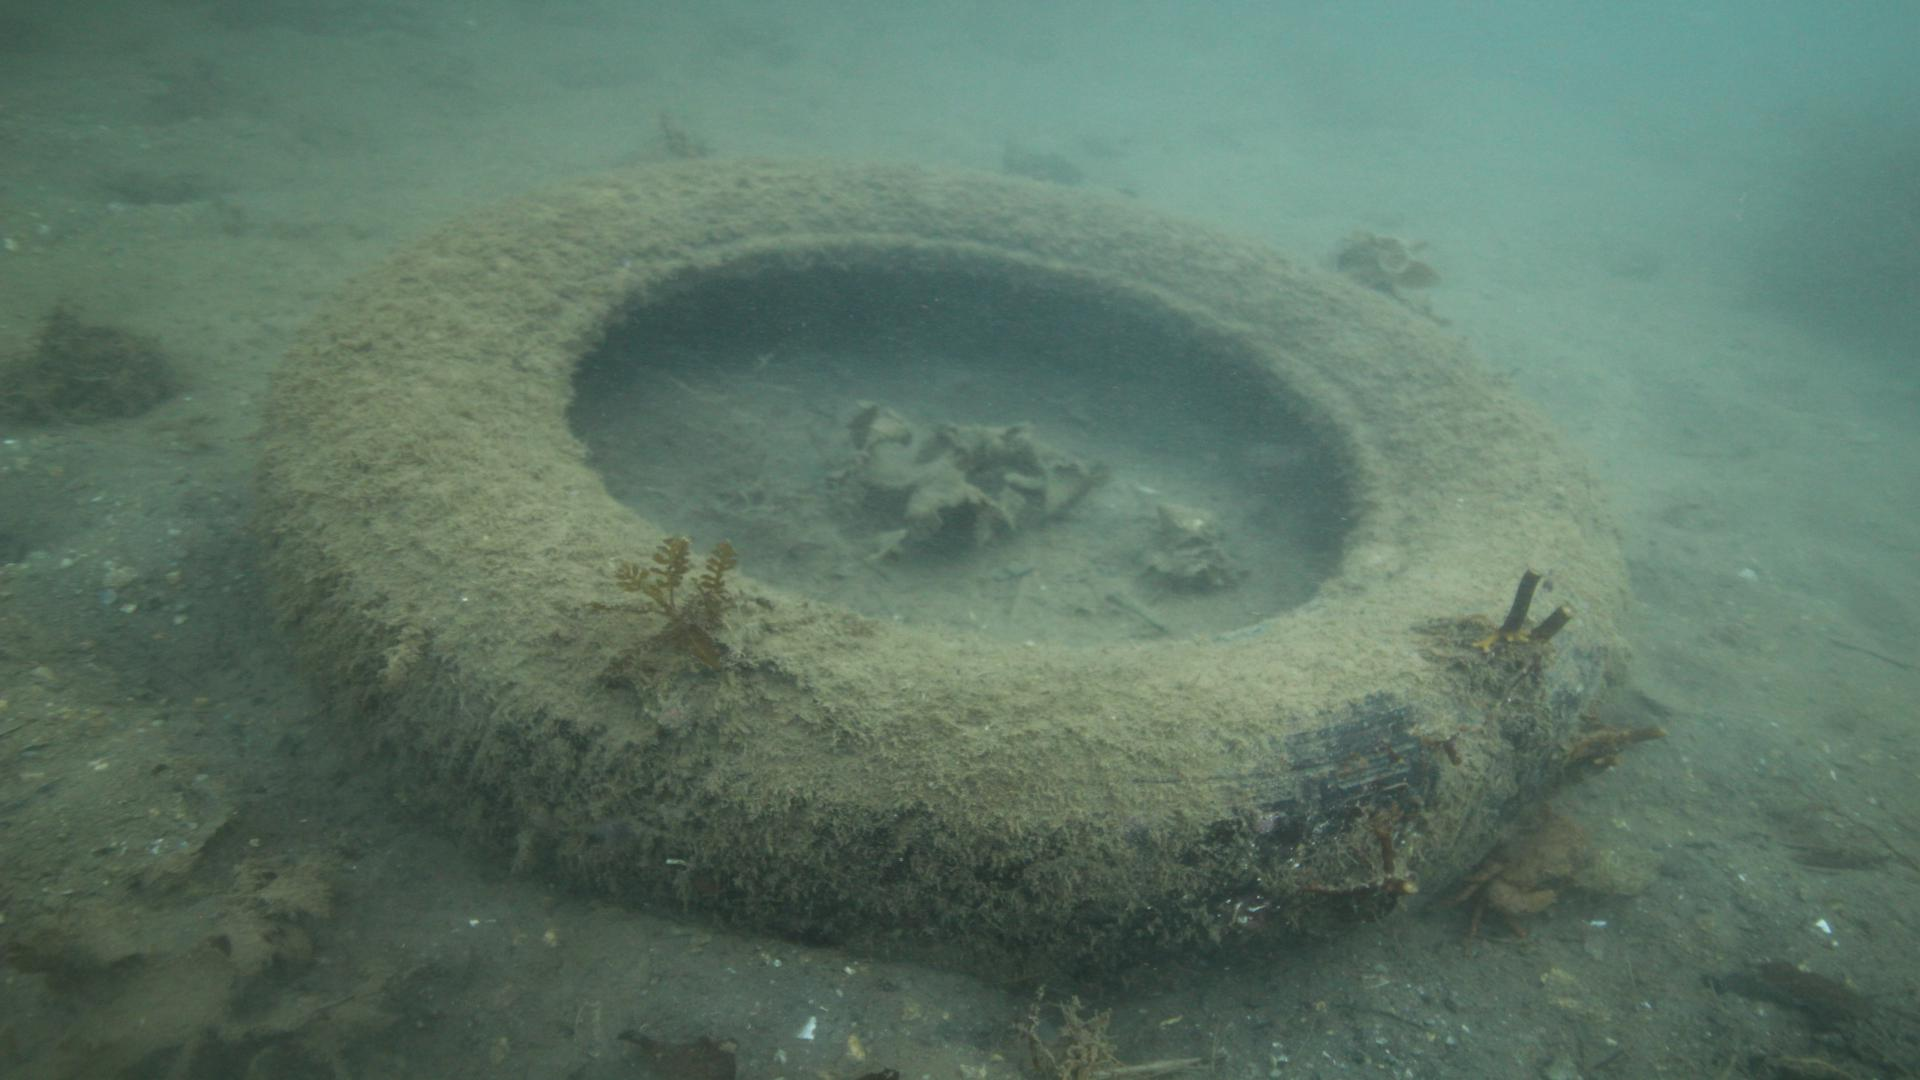tire: (262, 156, 1630, 1000)
